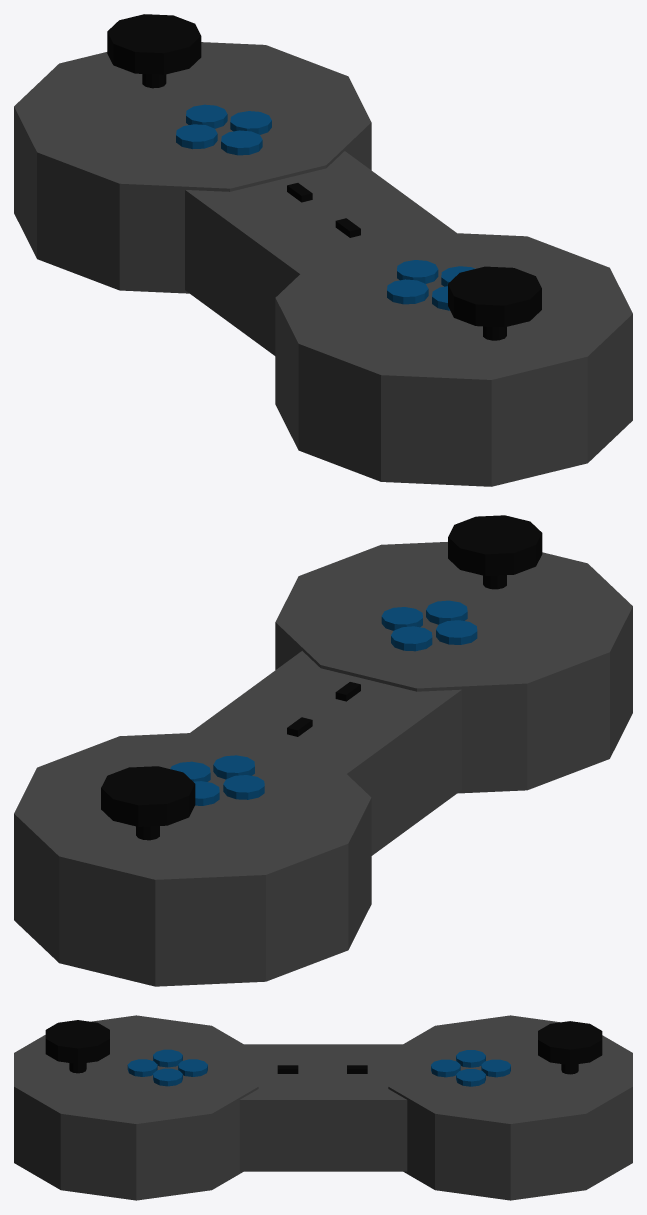
The model's file is controller.fbx.
3 views of the same model, one above another, from view 1: azimuth 30°, elevation 25°; view 2: azimuth 150°, elevation 25°; view 3: azimuth 270°, elevation 25° (orthographic). The views are drawn at different scales.
Visible parts, largest first — view 1: pCylinder1, pCylinder15, pCube1, pCylinder3 (×2), pCylinder7, pCylinder22, pCylinder19, pCylinder21, pCylinder17, pCylinder20; view 2: pCylinder15, pCylinder1, pCube1, pCylinder3 (×2), pCylinder19, pCylinder17, pCylinder7, pCylinder18, pCylinder22, pCylinder16; view 3: pCylinder1, pCylinder15, pCube1, pCylinder3 (×2), pCylinder16, pCylinder18, pCylinder20, pCylinder21, pCylinder22, pCylinder7, pCylinder17, pCylinder19.
Part boxes in pixels (<box>): pCylinder1: <box>275,231,632,486</box>; pCylinder15: <box>14,42,371,293</box>; pCube1: <box>185,151,456,355</box>; pCylinder3 (×2): <box>107,14,541,327</box>; pCylinder7: <box>387,279,428,304</box>; pCylinder22: <box>221,130,262,155</box>; pCylinder19: <box>176,124,217,149</box>; pCylinder21: <box>230,111,271,134</box>; pCylinder17: <box>397,260,438,283</box>; pCylinder20: <box>186,104,227,128</box>; pCylinder15: <box>14,731,371,986</box>; pCylinder1: <box>275,542,632,793</box>; pCube1: <box>190,651,461,855</box>; pCylinder3 (×2): <box>101,515,542,826</box>; pCylinder19: <box>223,775,264,799</box>; pCylinder17: <box>391,626,432,651</box>; pCylinder7: <box>436,620,477,644</box>; pCylinder18: <box>426,600,467,624</box>; pCylinder22: <box>213,755,254,779</box>; pCylinder16: <box>381,607,422,630</box>; pCylinder1: <box>14,1015,258,1200</box>; pCylinder15: <box>388,1015,632,1200</box>; pCube1: <box>239,1044,407,1171</box>; pCylinder3 (×2): <box>45,1020,602,1065</box>; pCylinder16: <box>153,1068,182,1086</box>; pCylinder18: <box>127,1059,157,1076</box>; pCylinder20: <box>481,1059,510,1077</box>; pCylinder21: <box>456,1069,485,1086</box>; pCylinder22: <box>431,1059,460,1077</box>; pCylinder7: <box>153,1049,182,1067</box>; pCylinder17: <box>178,1059,207,1076</box>; pCylinder19: <box>456,1050,485,1067</box>.
Bounding box in the file's own units: 2 × 0.9594 × 4.81.
